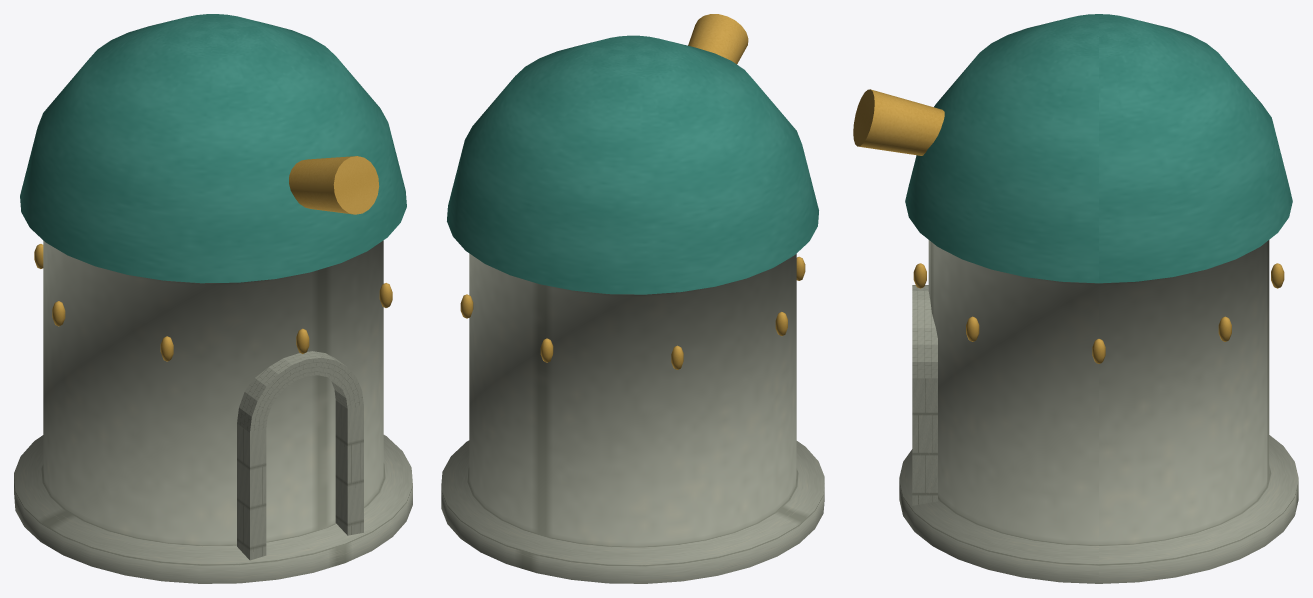
Rendered from observatory.glb.
3 renders of one model, left to right at view 1: azimuth 30°, elevation 25°; view 2: azimuth 150°, elevation 25°; view 3: azimuth 270°, elevation 25°, orthographic. The views are drawn at different scales.
Parts seen in each view (by area): view 1: observatory; view 2: observatory; view 3: observatory.
Part boxes in pixels (x1=…): observatory: x1=14, y1=14, x2=412, y2=583; observatory: x1=441, y1=14, x2=824, y2=583; observatory: x1=853, y1=14, x2=1298, y2=583.
Size of the model in its own units: 3.4 by 4.4 by 3.79.
3 materials, 3 textured.
